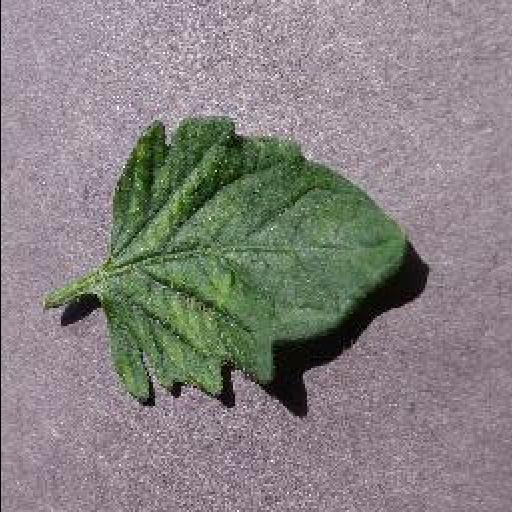Mosaic Virus: (101, 114, 407, 406)
